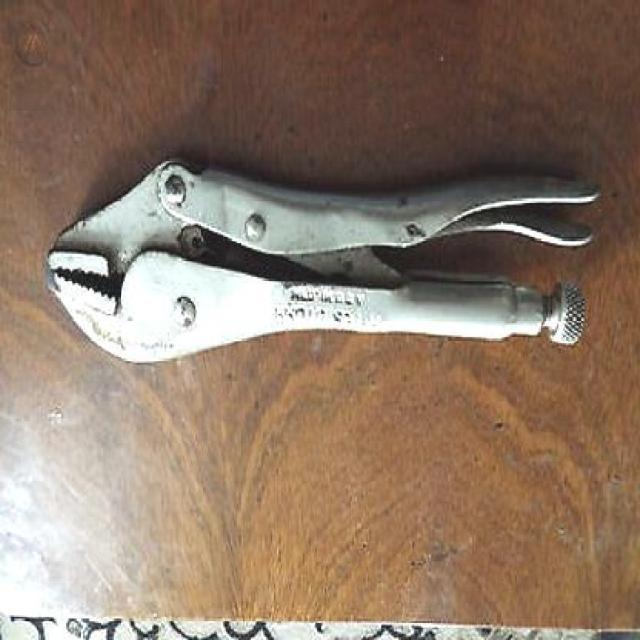pliers: (38, 153, 606, 367)
